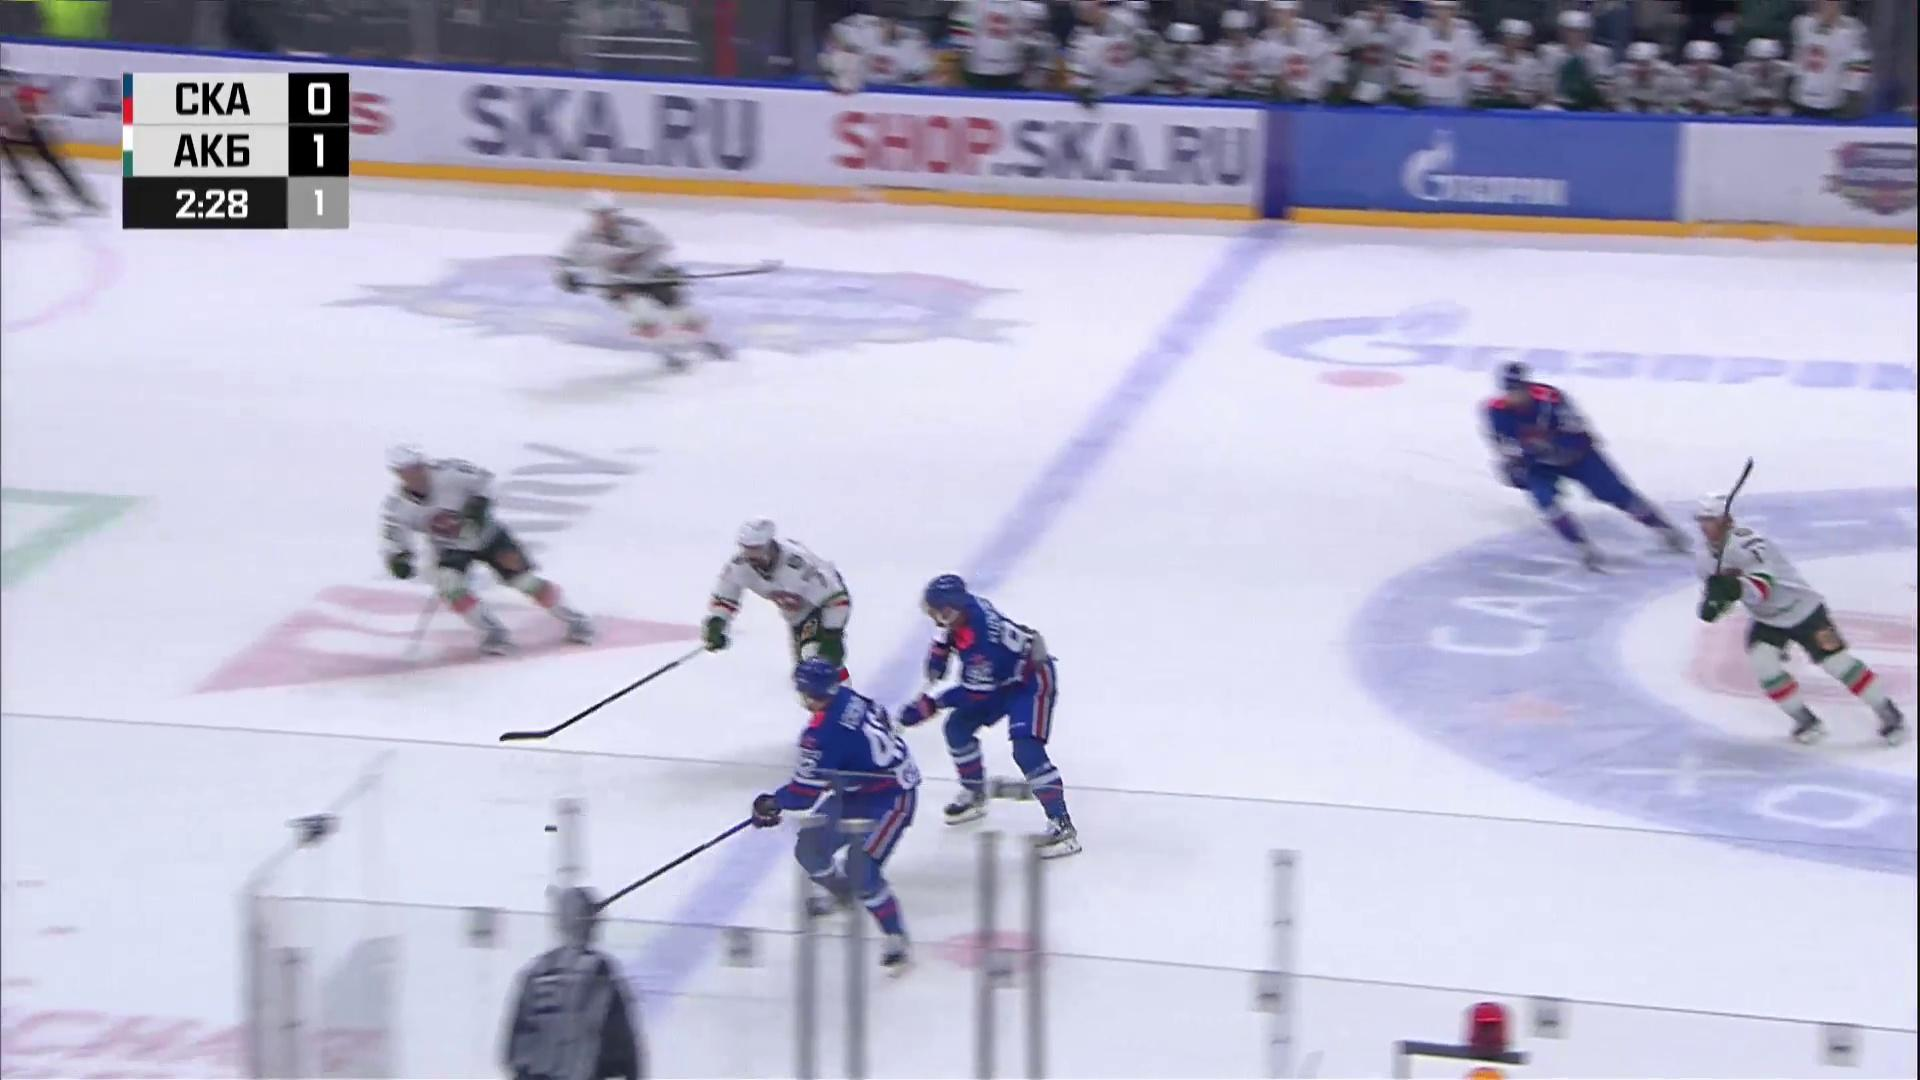ball: (543, 825, 558, 832)
